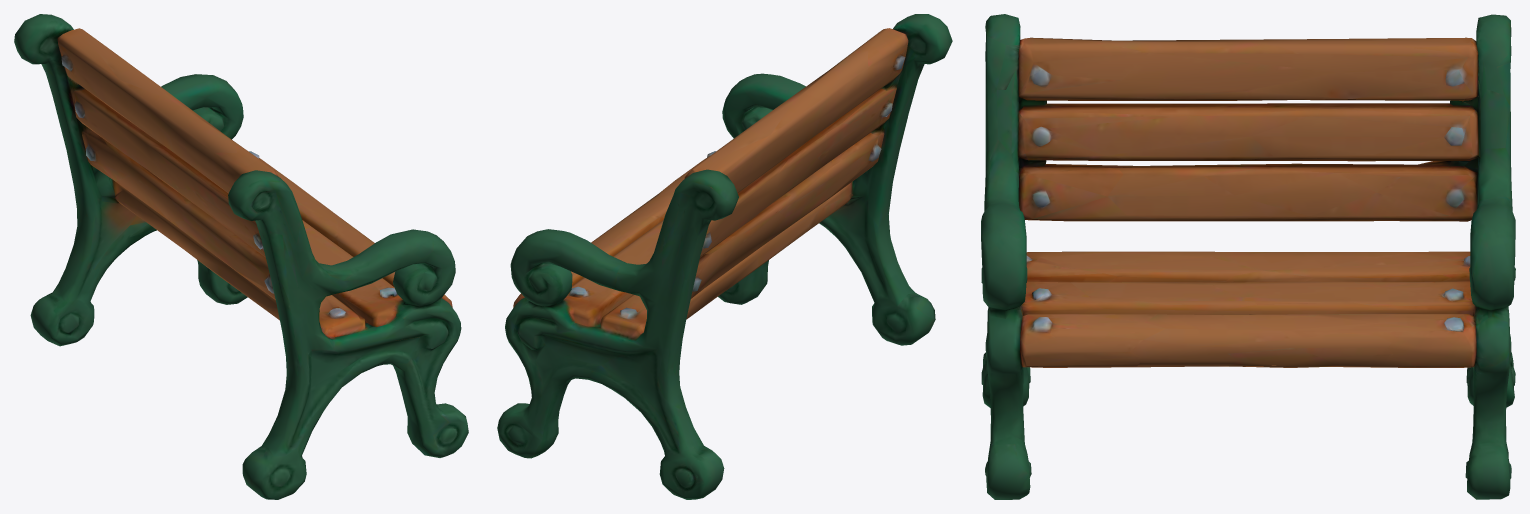
Rendered from bench.glb.
3 views of the same model, side by side, from view 1: azimuth 30°, elevation 25°; view 2: azimuth 150°, elevation 25°; view 3: azimuth 270°, elevation 25° (orthographic). The views are drawn at different scales.
Visible parts, largest first — view 1: tripo_node_b93168ab-a0e2-4e7a-a53e-ededc3ba07c2; view 2: tripo_node_b93168ab-a0e2-4e7a-a53e-ededc3ba07c2; view 3: tripo_node_b93168ab-a0e2-4e7a-a53e-ededc3ba07c2.
Part boxes in pixels (x1,y1,x2,y2): tripo_node_b93168ab-a0e2-4e7a-a53e-ededc3ba07c2: [14, 14, 468, 499]; tripo_node_b93168ab-a0e2-4e7a-a53e-ededc3ba07c2: [497, 14, 952, 499]; tripo_node_b93168ab-a0e2-4e7a-a53e-ededc3ba07c2: [981, 14, 1515, 499].
Size of the model in its own units: 0.571 by 0.7628 by 0.9805.
Materials: 1 (1 with a texture image).
